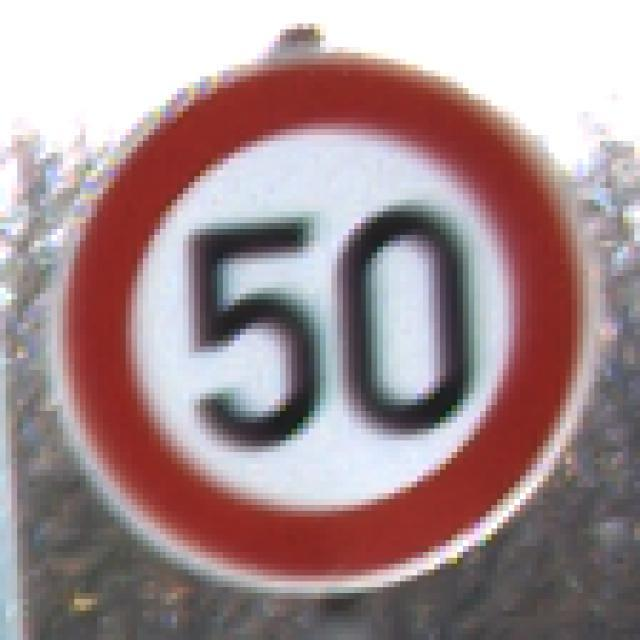speed limit 50: (48, 50, 607, 603)
